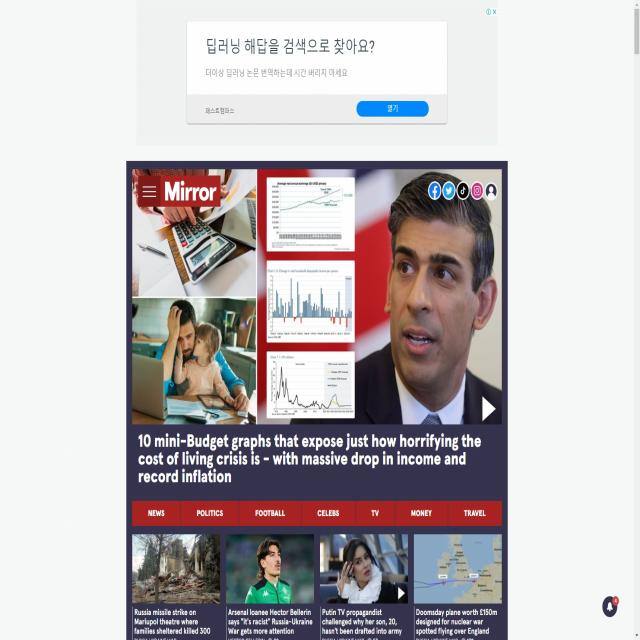menu-bar: (128, 532, 505, 640), (137, 173, 222, 207)
menu-panel: (129, 496, 504, 529)
